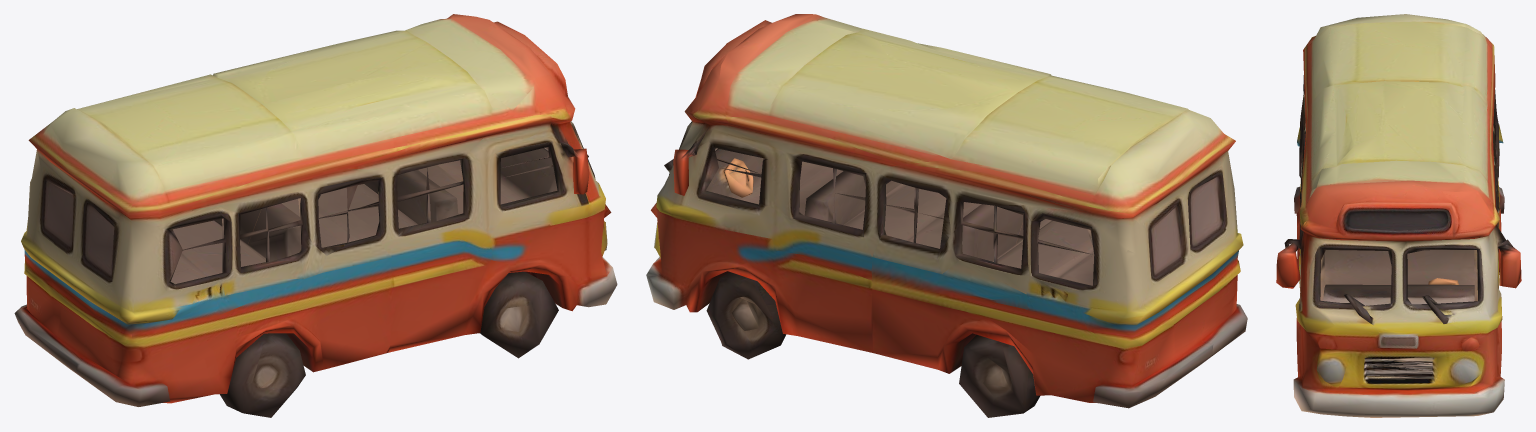
File: colectivo.glb
3 views of the same model, side by side, from view 1: azimuth 30°, elevation 25°; view 2: azimuth 150°, elevation 25°; view 3: azimuth 270°, elevation 25° (orthographic). The views are drawn at different scales.
Parts seen in each view (by area): view 1: tripo_node_b624832e-e762-4f03-9e57-d9085d78ac47; view 2: tripo_node_b624832e-e762-4f03-9e57-d9085d78ac47; view 3: tripo_node_b624832e-e762-4f03-9e57-d9085d78ac47.
Boxes of the visible parts, x1,y1,x2,y2 form: tripo_node_b624832e-e762-4f03-9e57-d9085d78ac47: (14, 14, 617, 417); tripo_node_b624832e-e762-4f03-9e57-d9085d78ac47: (646, 14, 1247, 417); tripo_node_b624832e-e762-4f03-9e57-d9085d78ac47: (1276, 14, 1521, 417).
Size of the model in its own units: 1 by 0.5106 by 0.4777.
1 material, 1 textured.
